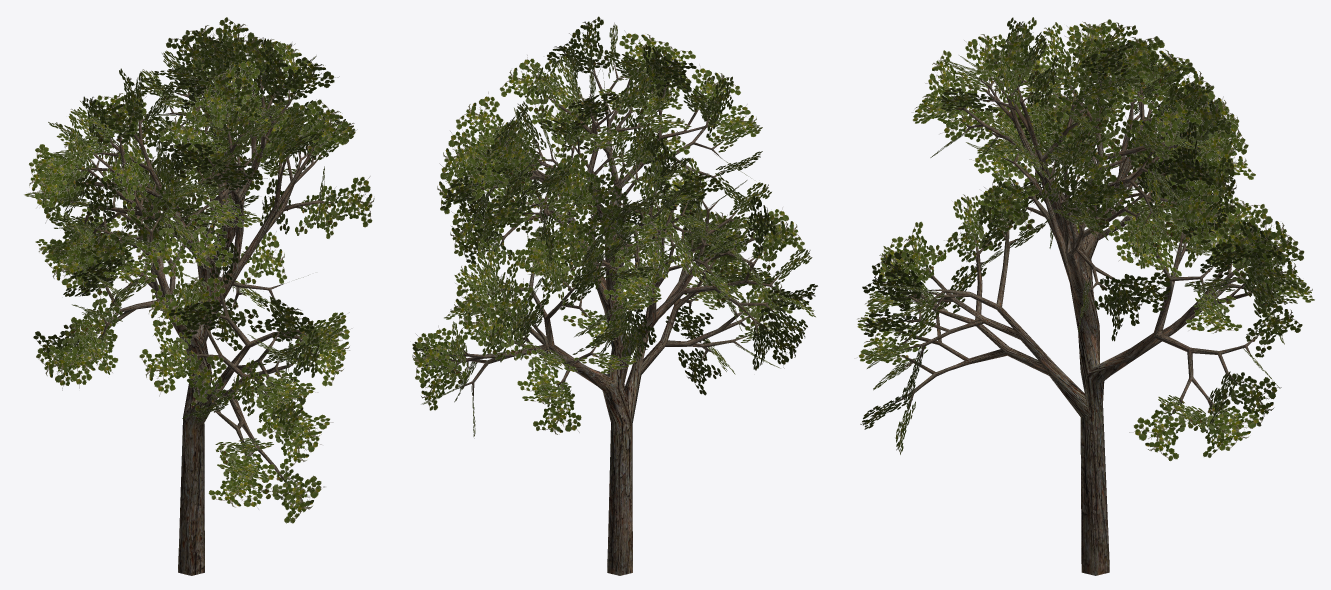
The model's file is tree-1-5.obj.
The picture shows the model from 3 angles, left to right: view 1: azimuth 30°, elevation 25°; view 2: azimuth 150°, elevation 25°; view 3: azimuth 270°, elevation 25°; orthographic projection. The views are drawn at different scales.
Visible parts, largest first — view 1: Twig0, Tree0; view 2: Twig0, Tree0; view 3: Twig0, Tree0.
Boxes of the visible parts, box(x1,y1,x2,y2) form: Twig0: box(24, 17, 374, 523); Tree0: box(67, 68, 337, 575); Twig0: box(412, 16, 817, 438); Tree0: box(445, 59, 781, 575); Twig0: box(854, 17, 1314, 461); Tree0: box(893, 65, 1261, 575).
Bounding box in the file's own units: 3.61 × 5.22 × 3.95.
